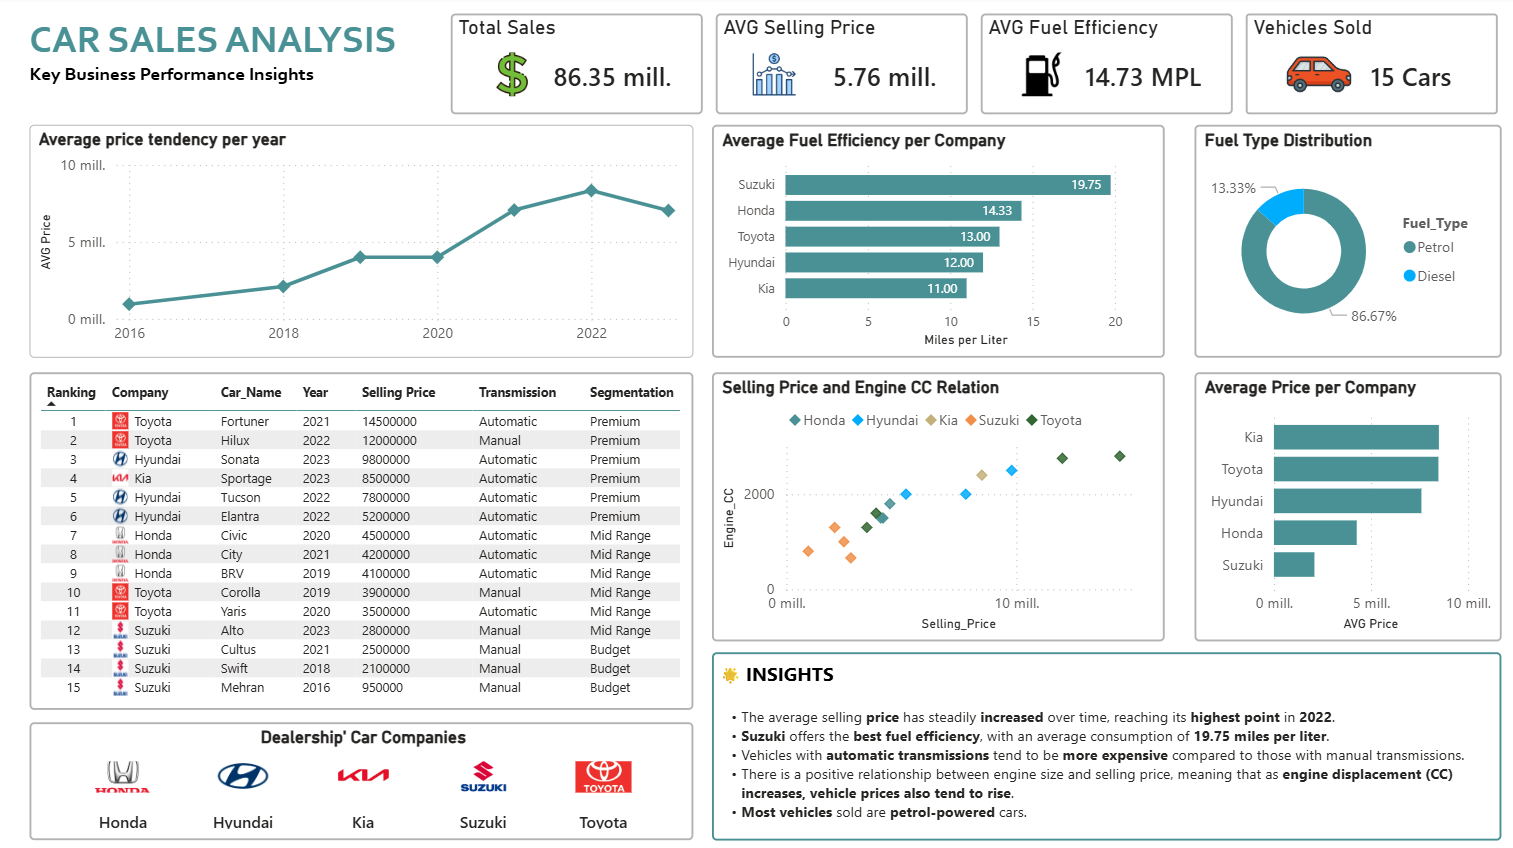

This screenshot's page, from the dashboard's own definition file:
{"tool":"powerbi","page":{"name":"Página 1","canvas":[1280,720],"ordinal":0},"visuals":[{"type":"lineChart","title":"Average price tendency per year","fields":{"Y":["DAX.Total_SP"],"Category":["car_sales_analysis_dataset.Year"]},"box":[27.4,108.2,558.3,196.2],"z":0},{"type":"clusteredBarChart","title":"Average Fuel Efficiency per Company","fields":{"Category":["car_sales_analysis_dataset.Company"],"Y":["Avg(car_sales_analysis_dataset.Fuel_Efficiency)"]},"box":[601.6,108.2,380.9,196.2],"z":1000},{"type":"donutChart","title":"Fuel Type Distribution","fields":{"Category":["car_sales_analysis_dataset.Fuel_Type"],"Y":["CountNonNull(car_sales_analysis_dataset.Car_Name)"]},"box":[1007,108.2,258.3,196.2],"z":2000},{"type":"tableEx","fields":{"Values":["DAX.RankingPrices","car_sales_analysis_dataset.Company","car_sales_analysis_dataset.Car_Name","car_sales_analysis_dataset.Year","car_sales_analysis_dataset.Selling_Price","car_sales_analysis_dataset.Transmission","DAX.Segmentation"]},"box":[27.6,316.4,558.5,284],"z":3000},{"type":"clusteredBarChart","title":"Average Price per Company","fields":{"Category":["car_sales_analysis_dataset.Company"],"Y":["DAX.AVG_SP"]},"box":[1007,316.3,258.3,226.5],"z":4000},{"type":"scatterChart","title":"Selling Price and Engine CC Relation","fields":{"X":["car_sales_analysis_dataset.Selling_Price"],"Y":["car_sales_analysis_dataset.Engine_CC"],"Series":["car_sales_analysis_dataset.Company"]},"box":[601.6,316.3,380.9,226.5],"z":5000},{"type":"cardVisual","title":"Total Sales","fields":{"Data":["DAX.Total_SP"]},"box":[381.9,14.3,212.1,85.1],"z":6000},{"type":"cardVisual","title":"Dealership'' Car Companies","fields":{"Rows":["car_sales_analysis_dataset.Company"],"Data":["Min(Tabla.Logo_URL)"]},"box":[27.6,611.2,558.5,99.5],"z":7000},{"type":"cardVisual","title":"AVG Selling Price","fields":{"Data":["DAX.AVG_SP"]},"box":[604.8,14.3,212.1,85.1],"z":8000},{"type":"cardVisual","title":"AVG Fuel Efficiency","fields":{"Data":["DAX.AVPMPL"]},"box":[827.8,14.3,212.1,85.1],"z":9000},{"type":"cardVisual","title":"Vehicles Sold","fields":{"Data":["DAX.VehiclesS"]},"box":[1050.7,14.3,212.1,85.1],"z":10000},{"type":"textbox","box":[27.4,11.5,337.6,85.1],"z":11000},{"type":"textbox","box":[601.6,552.5,664,158.2],"z":12000}]}

Visuals, with their boxes in screenshot pixels (x1, y1, x2, y2), scaled from the page's 1280x720 canvas onto the 1513x848 screenshot:
"Average price tendency per year" lineChart: [32,127,692,359]
"Average Fuel Efficiency per Company" clusteredBarChart: [711,127,1161,359]
"Fuel Type Distribution" donutChart: [1190,127,1496,359]
tableEx - DAX.RankingPrices x car_sales_analysis_dataset.Company: [33,373,693,707]
"Average Price per Company" clusteredBarChart: [1190,373,1496,639]
"Selling Price and Engine CC Relation" scatterChart: [711,373,1161,639]
"Total Sales" cardVisual: [451,17,702,117]
"Dealership'' Car Companies" cardVisual: [33,720,693,837]
"AVG Selling Price" cardVisual: [715,17,966,117]
"AVG Fuel Efficiency" cardVisual: [978,17,1229,117]
"Vehicles Sold" cardVisual: [1242,17,1493,117]
textbox: [32,14,431,114]
textbox: [711,651,1496,837]
